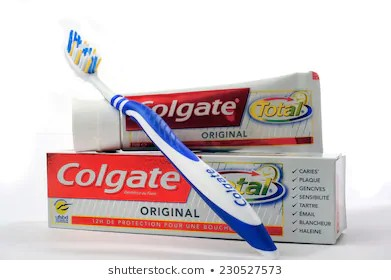colgate-total-150gm: (45, 151, 346, 246), (74, 73, 319, 152)
toothbrush: (58, 17, 154, 99)
